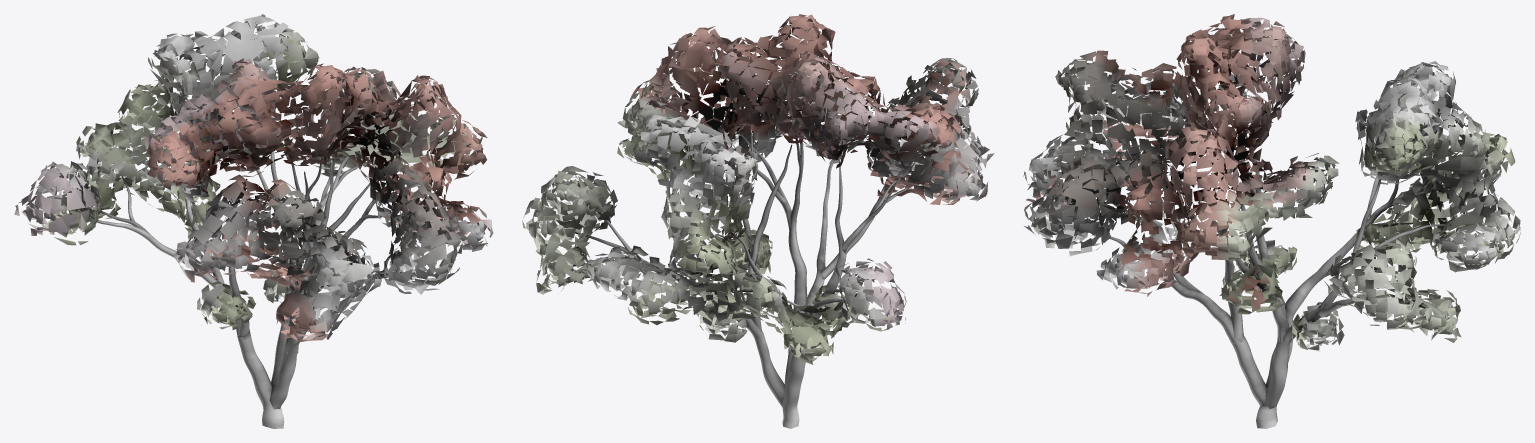
Rendered from JP_Tree_Maple.fbx.
3 views of the same model, side by side, from view 1: azimuth 30°, elevation 25°; view 2: azimuth 150°, elevation 25°; view 3: azimuth 270°, elevation 25° (orthographic). The views are drawn at different scales.
Visible parts, largest first — view 1: JP_Tree_Maple_Leaf_LOD0, JP_Tree_Maple_LOD0; view 2: JP_Tree_Maple_Leaf_LOD0, JP_Tree_Maple_LOD0; view 3: JP_Tree_Maple_Leaf_LOD0, JP_Tree_Maple_LOD0.
Part boxes in pixels (x1,y1,x2,y2): JP_Tree_Maple_Leaf_LOD0: (14,14,493,342); JP_Tree_Maple_LOD0: (84,147,402,428); JP_Tree_Maple_Leaf_LOD0: (522,14,994,364); JP_Tree_Maple_LOD0: (572,113,913,428); JP_Tree_Maple_Leaf_LOD0: (1023,14,1520,351); JP_Tree_Maple_LOD0: (1094,129,1449,428).
Size of what is drawn, in the model's own units: 1431 by 1350 by 1534.
